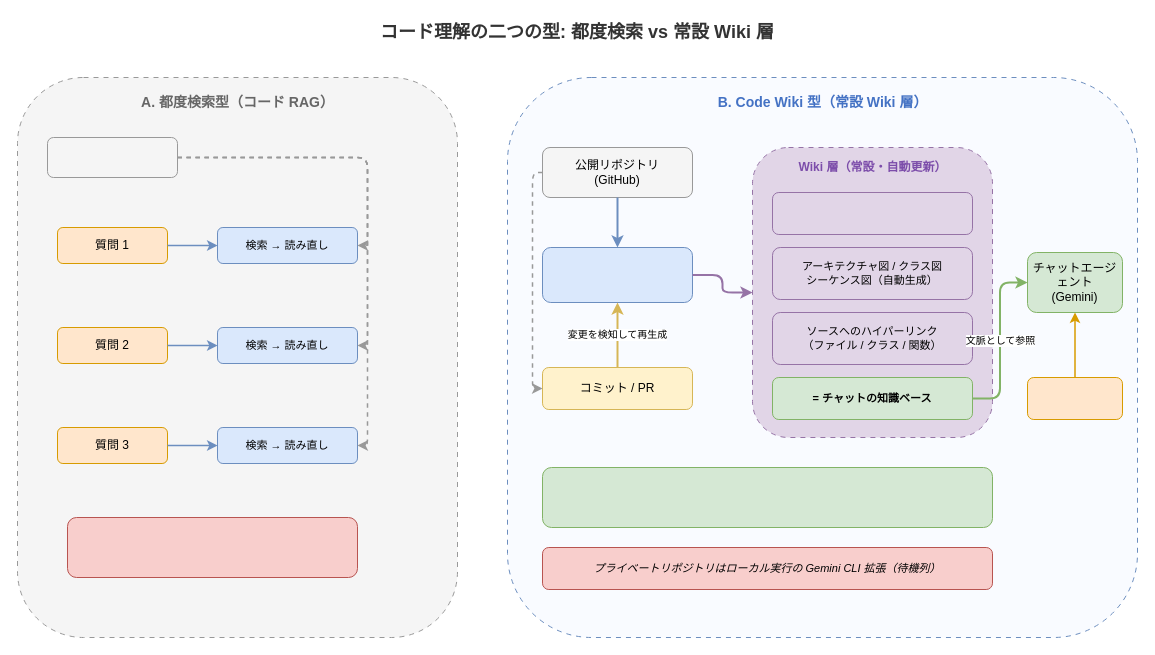
Image size: 1155x655. Some labels were removed from this diagram. Each missing label, with the centre of its shape:
リポジトリ: the point at 112,157
一度作った理解が資産として残り、次の質問はその上から始まる コード変更を検知して再生成 → ドキュメントが腐らない: the point at 767,497
全体スキャン + 生成 (Gemini): the point at 617,274
構造化された解説ページ: the point at 872,213
理解は毎回捨てられる 質問のたびに同じコストを払う: the point at 212,547
開発者の質問: the point at 1074,398
